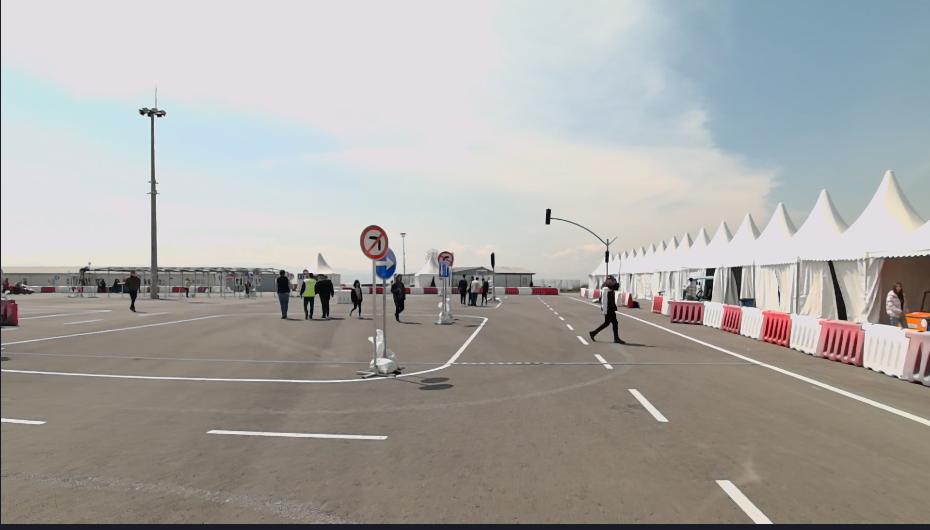nesne: (2, 292, 930, 525), (0, 293, 771, 527), (531, 291, 928, 522), (1, 317, 486, 380), (610, 293, 929, 384), (0, 307, 233, 346), (622, 312, 776, 368), (779, 366, 928, 421), (0, 311, 229, 344), (138, 83, 165, 296), (714, 479, 772, 524), (860, 323, 910, 373), (586, 274, 624, 339), (816, 315, 865, 365), (357, 330, 403, 379), (553, 216, 618, 249), (207, 428, 387, 439), (897, 328, 925, 387), (789, 311, 822, 349), (757, 310, 793, 344), (627, 388, 664, 418), (883, 281, 907, 327), (729, 348, 784, 368), (359, 223, 388, 260), (905, 291, 929, 331), (666, 300, 706, 323), (740, 306, 764, 339), (301, 271, 317, 320), (318, 270, 333, 317), (375, 248, 397, 280), (392, 276, 407, 320), (276, 267, 289, 317), (498, 286, 558, 296), (722, 305, 743, 331), (348, 279, 363, 315), (126, 270, 139, 309), (655, 295, 686, 311), (0, 297, 17, 324), (694, 275, 713, 299), (0, 414, 45, 424), (380, 281, 386, 355), (438, 297, 453, 325), (680, 277, 698, 299), (398, 231, 406, 274), (9, 279, 32, 293), (31, 284, 71, 292), (372, 259, 375, 360), (457, 274, 467, 304), (479, 277, 489, 304), (375, 358, 394, 372), (595, 351, 610, 368), (471, 277, 480, 304), (335, 289, 351, 303), (453, 313, 487, 319), (739, 296, 756, 307), (533, 287, 556, 294), (439, 250, 451, 263), (442, 278, 446, 316), (439, 262, 449, 277), (2, 275, 9, 293), (81, 286, 96, 294), (545, 208, 552, 225), (518, 286, 532, 294), (492, 268, 495, 303), (489, 251, 495, 268), (506, 287, 517, 296), (55, 287, 71, 293), (362, 286, 370, 296), (424, 288, 437, 294), (412, 288, 424, 294), (40, 287, 54, 292), (30, 287, 41, 293), (452, 288, 461, 294), (604, 249, 608, 262), (498, 288, 505, 295), (279, 269, 285, 277), (437, 286, 441, 294), (307, 273, 312, 279), (395, 276, 401, 281), (406, 288, 411, 294), (606, 261, 608, 275), (447, 287, 451, 294)
